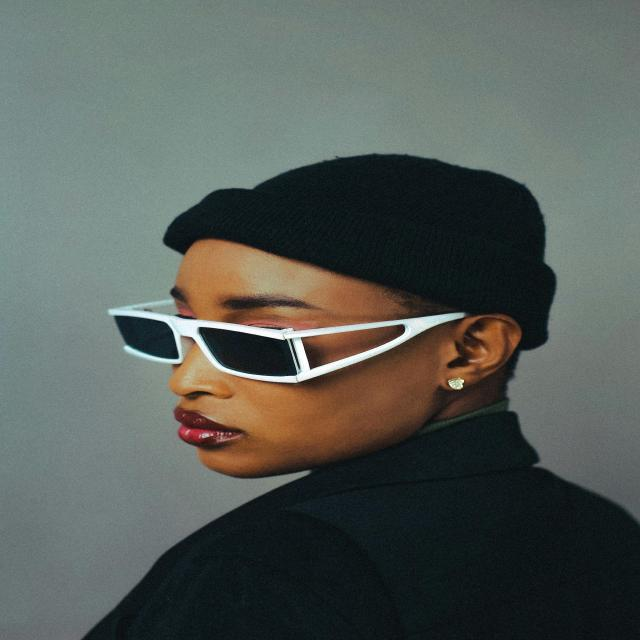oculos: (107, 298, 474, 384)
